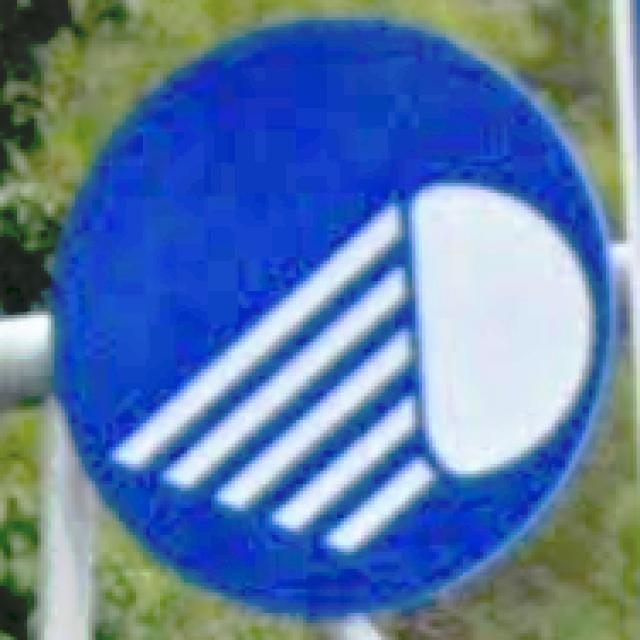lightson: (58, 28, 609, 611)
